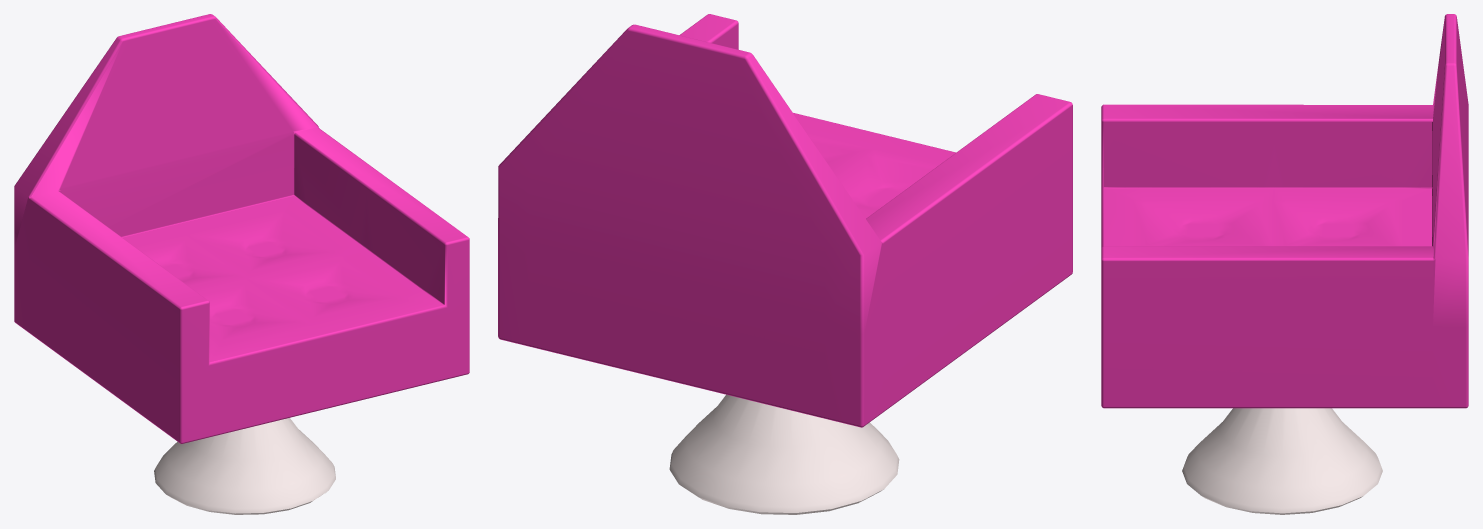
File: chair (1).fbx
3 renders of one model, left to right at view 1: azimuth 30°, elevation 25°; view 2: azimuth 150°, elevation 25°; view 3: azimuth 270°, elevation 25°, orthographic. The views are drawn at different scales.
Parts seen in each view (by area): view 1: pCube4, pCylinder2; view 2: pCube4, pCylinder2; view 3: pCube4, pCylinder2.
Part boxes in pixels (left/top/right/bottom): pCube4: left=14, top=14, right=469, bottom=443; pCylinder2: left=154, top=418, right=335, bottom=514; pCube4: left=498, top=14, right=1072, bottom=427; pCylinder2: left=669, top=394, right=899, bottom=514; pCube4: left=1101, top=14, right=1468, bottom=408; pCylinder2: left=1182, top=408, right=1382, bottom=514.
Size of the model in its own units: 1 by 1.31 by 1.
